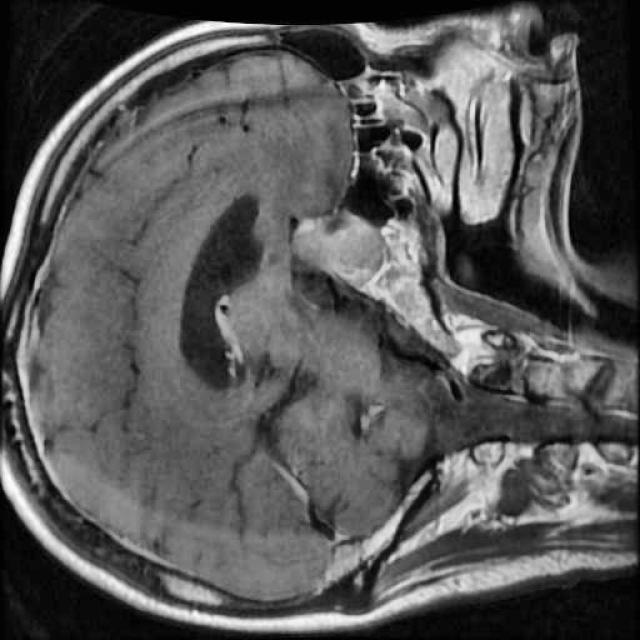Tumor: (272, 196, 395, 300)
